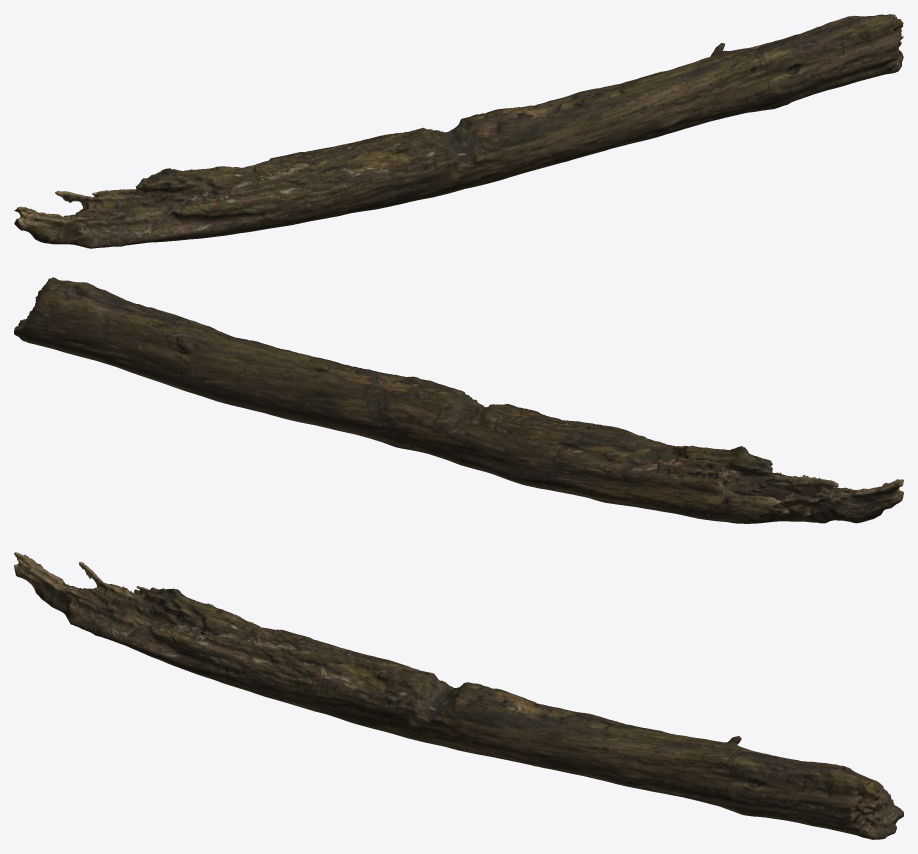
The model's file is dead_tree_trunk.glb.
The picture shows the model from 3 angles, top to bottom: view 1: azimuth 30°, elevation 25°; view 2: azimuth 150°, elevation 25°; view 3: azimuth 330°, elevation 25°; orthographic projection.
Visible parts, largest first — view 1: dead_tree_trunk; view 2: dead_tree_trunk; view 3: dead_tree_trunk.
Boxes of the visible parts, <box> form: dead_tree_trunk: <box>14,14,903,248</box>; dead_tree_trunk: <box>14,277,903,523</box>; dead_tree_trunk: <box>14,552,903,839</box>.
Bounding box in the file's own units: 3.05 × 0.2905 × 0.2775.
1 material, 1 textured.
